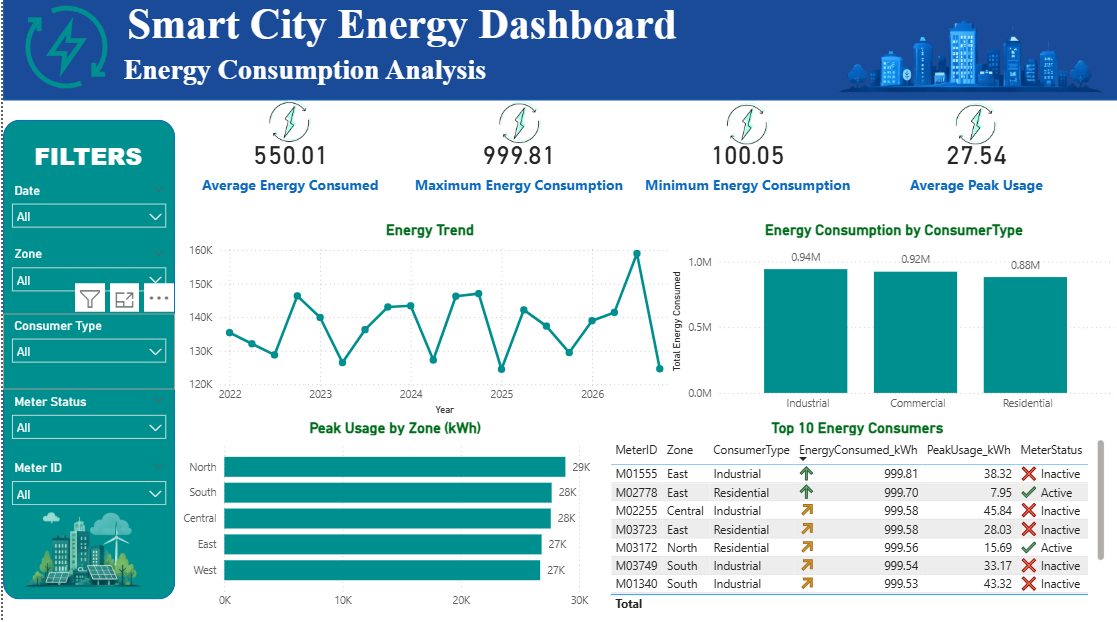

The dashboard page shown, as its layout file describes it:
{"tool":"powerbi","page":{"name":"Energy Consumption Analysis","canvas":[1280,720],"ordinal":1},"visuals":[{"type":"shape","box":[0,0,1279.7,119.2],"z":0},{"type":"lineChart","title":"Energy Trend","fields":{"Category":["Smart City Energy.Date.Variation.Date Hierarchy.Year","Smart City Energy.Date.Variation.Date Hierarchy.Quarter"],"Y":["Measure.Total Energy Consumed"]},"box":[206.7,256.7,561.7,226.7],"z":1000},{"type":"shape","box":[0,141.7,196.7,548.3],"z":2000},{"type":"card","fields":{"Values":["Measure.Average Energy Consumed"]},"box":[203.4,134.2,251,114],"z":3000},{"type":"card","fields":{"Values":["Measure.Maximum Energy Consumption"]},"box":[464.6,134.2,251,114],"z":4000},{"type":"card","fields":{"Values":["Measure.Minimum Energy Consumption"]},"box":[725.7,134.2,251,114],"z":5000},{"type":"card","fields":{"Values":["Measure.Average Peak Usage"]},"box":[986.8,134.2,251,114],"z":6000},{"type":"columnChart","title":"Energy Consumption by ConsumerType","fields":{"Category":["Smart City Energy.ConsumerType"],"Y":["Measure.Total Energy Consumed"]},"box":[760,256.7,516.7,226.7],"z":7000},{"type":"barChart","title":"Peak Usage by Zone (kWh)","fields":{"Category":["Smart City Energy.Zone"],"Y":["Measure.Total Peak Usage"]},"box":[196.7,483.3,501.7,226.7],"z":8000},{"type":"tableEx","title":"Top 10 Energy Consumers","fields":{"Values":["Smart City Energy.MeterID","Smart City Energy.Zone","Smart City Energy.ConsumerType","Smart City Energy.EnergyConsumed_kWh","Smart City Energy.PeakUsage_kWh","Smart City Energy.MeterStatus"]},"box":[688.2,483.3,575.7,226.5],"z":9000},{"type":"textbox","box":[137,0,740.4,81.9],"z":10000},{"type":"textbox","box":[133.5,60.5,558.9,60.5],"z":11000},{"type":"textbox","box":[16,158.4,163.7,62.3],"z":12000},{"type":"image","box":[945,0,320,141.7],"z":13000},{"type":"slicer","fields":{"Values":["Smart City Energy.Date Hierarchy.Date","Smart City Energy.Date Hierarchy.Year","Smart City Energy.Date Hierarchy.Month","Smart City Energy.Date Hierarchy.Quarter"]},"box":[0,208.3,196.7,88.3],"z":14000},{"type":"slicer","fields":{"Values":["Smart City Energy.Zone"]},"box":[0,281.7,196.7,86.7],"z":15000},{"type":"slicer","fields":{"Values":["Smart City Energy.ConsumerType"]},"box":[0,363.3,196.7,86.7],"z":16000},{"type":"slicer","fields":{"Values":["Smart City Energy.MeterStatus"]},"box":[0,450,196.7,86.7],"z":17000},{"type":"slicer","fields":{"Values":["Smart City Energy.MeterID"]},"box":[0,525.2,196.2,88],"z":18000},{"type":"image","box":[0,538.2,184.7,181.8],"z":18001},{"type":"image","box":[26,7.2,93.8,102.4],"z":18002},{"type":"image","box":[294.3,118.3,67.8,49.1],"z":18003},{"type":"image","box":[556.9,119.7,67.8,49.1],"z":18004},{"type":"image","box":[816.6,121.2,67.8,49.1],"z":18005},{"type":"image","box":[1079.2,121.2,67.8,49.1],"z":18006}]}

Visuals, with their boxes in screenshot pixels (x1, y1, x2, y2), scaled from the page's 1280x720 canvas onto the 1117x622 screenshot:
shape: 0:0:1116:103
"Energy Trend" lineChart: 180:222:671:418
shape: 0:122:172:596
card - Measure.Average Energy Consumed: 177:116:397:214
card - Measure.Maximum Energy Consumption: 405:116:624:214
card - Measure.Minimum Energy Consumption: 633:116:852:214
card - Measure.Average Peak Usage: 861:116:1080:214
"Energy Consumption by ConsumerType" columnChart: 663:222:1114:418
"Peak Usage by Zone (kWh)" barChart: 172:418:609:613
"Top 10 Energy Consumers" tableEx: 601:418:1103:613
textbox: 120:0:766:71
textbox: 116:52:604:105
textbox: 14:137:157:191
image: 825:0:1104:122
slicer - Smart City Energy.Date Hierarchy.Date x Smart City Energy.Date Hierarchy.Year: 0:180:172:256
slicer - Smart City Energy.Zone: 0:243:172:318
slicer - Smart City Energy.ConsumerType: 0:314:172:389
slicer - Smart City Energy.MeterStatus: 0:389:172:464
slicer - Smart City Energy.MeterID: 0:454:171:530
image: 0:465:161:621
image: 23:6:105:95
image: 257:102:316:145
image: 486:103:545:146
image: 713:105:772:147
image: 942:105:1001:147
